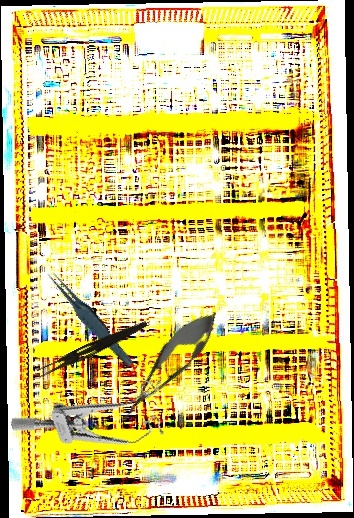Dressing Forceps: (36, 315, 149, 382)
Micro Scissor: (107, 299, 229, 435)
Speculum: (9, 366, 178, 483)
Tissue Forceps: (45, 263, 135, 373)
